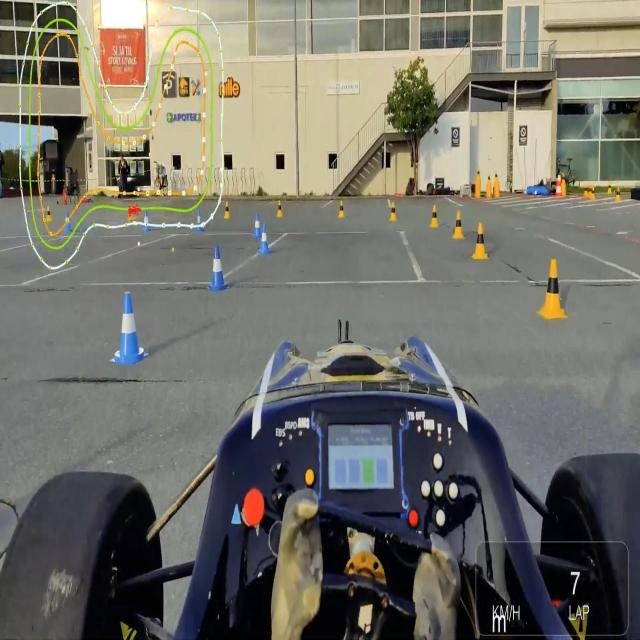blue_cone: (107, 286, 151, 372), (206, 241, 231, 295), (259, 222, 273, 256), (252, 210, 263, 241), (142, 208, 153, 236), (194, 209, 205, 232), (64, 212, 74, 234)
large_orange_cone: (554, 171, 563, 199)
yellow_cone: (536, 251, 570, 326), (471, 222, 492, 263), (452, 208, 467, 241), (428, 203, 441, 230), (222, 199, 233, 222), (388, 199, 398, 223), (275, 198, 284, 219), (337, 199, 346, 220), (45, 203, 53, 224)
